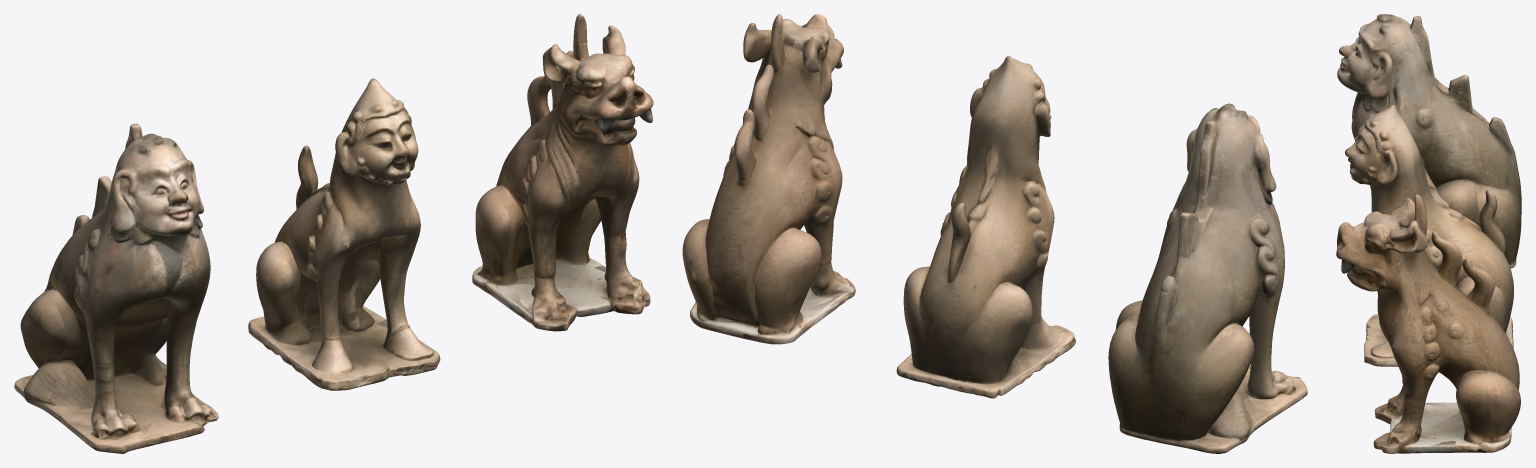
The model's file is guardians-mobile.glb.
3 renders of one model, left to right at view 1: azimuth 30°, elevation 25°; view 2: azimuth 150°, elevation 25°; view 3: azimuth 270°, elevation 25°, orthographic. The views are drawn at different scales.
Parts seen in each view (by area): view 1: A_P01_Body, B_P01_Body, C_P01_Body, C_P02_Head, A_P07_HindLeg_L, A_P02_Head, C_P07_HindLeg_L, A_P06_FrontLeg_R, B_P07_HindLeg_L, C_P05_FrontLeg_L, A_P05_FrontLeg_L, B_P05_FrontLeg_L (+13 smaller); view 2: A_P01_Body, B_P01_Body, C_P01_Body, C_P07_HindLeg_L, A_P07_HindLeg_L, B_P07_HindLeg_L, A_P02_Head, C_P02_Head, B_P02_Head, A_P05_FrontLeg_L, A_P09_Base, A_P08_HindLeg_R (+11 smaller); view 3: C_P01_Body, A_P01_Body, C_P08_HindLeg_R, B_P01_Body, A_P02_Head, C_P02_Head, A_P08_HindLeg_R, B_P02_Head, C_P06_FrontLeg_R, A_P11_Relief_R, C_P11_Relief_R, B_P08_HindLeg_R (+11 smaller).
Part boxes in pixels (x1,y1,x2,y2): A_P01_Body: (49,187,210,408); B_P01_Body: (285,151,420,349); C_P01_Body: (503,81,636,299); C_P02_Head: (543,14,653,131); A_P07_HindLeg_L: (20,277,94,407); A_P02_Head: (105,139,203,234); C_P07_HindLeg_L: (475,164,534,310); A_P06_FrontLeg_R: (133,283,214,426); B_P07_HindLeg_L: (249,221,310,364); C_P05_FrontLeg_L: (522,181,597,324); A_P05_FrontLeg_L: (74,293,161,437); B_P05_FrontLeg_L: (301,234,384,382); A_P01_Body: (1128,171,1284,439); B_P01_Body: (919,117,1053,386); C_P01_Body: (699,79,839,333); C_P07_HindLeg_L: (752,198,838,335); A_P07_HindLeg_L: (1177,309,1254,439); B_P07_HindLeg_L: (968,249,1053,391); A_P02_Head: (1185,116,1276,202); C_P02_Head: (743,14,843,112); B_P02_Head: (970,76,1051,140); A_P05_FrontLeg_L: (1237,270,1295,398); A_P09_Base: (1119,366,1307,453); A_P08_HindLeg_R: (1108,300,1142,428); C_P01_Body: (1347,263,1520,434); A_P01_Body: (1340,78,1521,234); C_P08_HindLeg_R: (1414,348,1520,447); B_P01_Body: (1349,163,1513,344); A_P02_Head: (1337,25,1435,96); C_P02_Head: (1336,194,1455,278); A_P08_HindLeg_R: (1430,170,1520,263); B_P02_Head: (1345,125,1422,179); C_P06_FrontLeg_R: (1374,330,1415,448); A_P11_Relief_R: (1404,99,1448,157); C_P11_Relief_R: (1403,281,1445,337); B_P08_HindLeg_R: (1436,260,1508,332).
Size of the model in its own units: 2.08 by 1 by 0.7008.
Materials: 33 (33 with a texture image).
